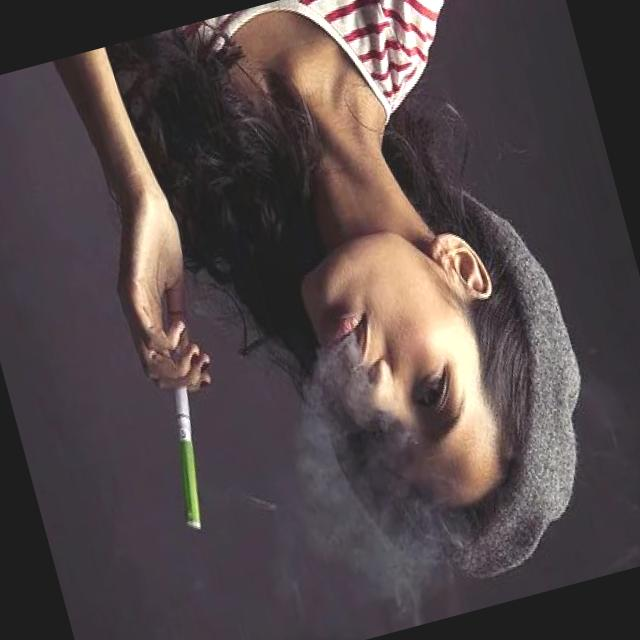cigarette: (146, 369, 233, 538)
